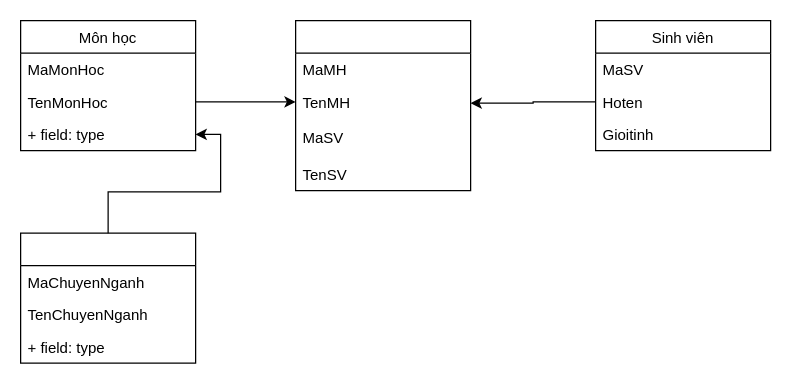
This 791x384 diagram has some shape labels left out. Here are the shapes that lost their labels. From the top down, the box of each, then its label:
(294, 19, 471, 191): Thông tin Đăng ký
(19, 232, 196, 363): Chuyên ngành
